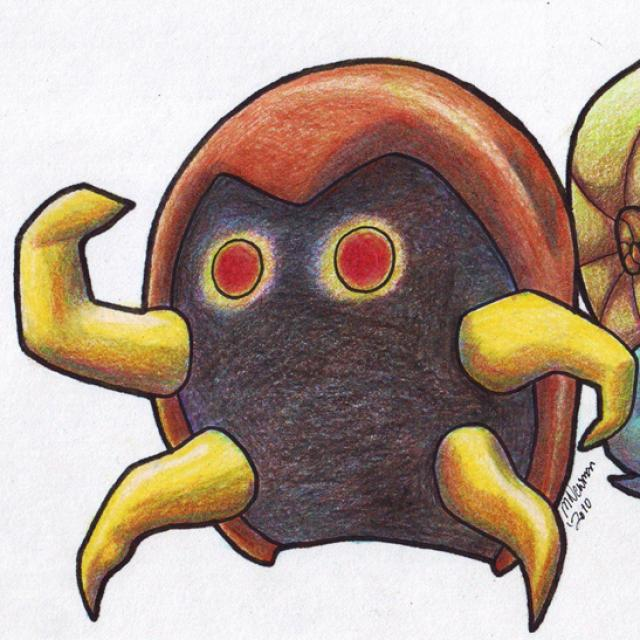Kabuto: (103, 71, 571, 568)
